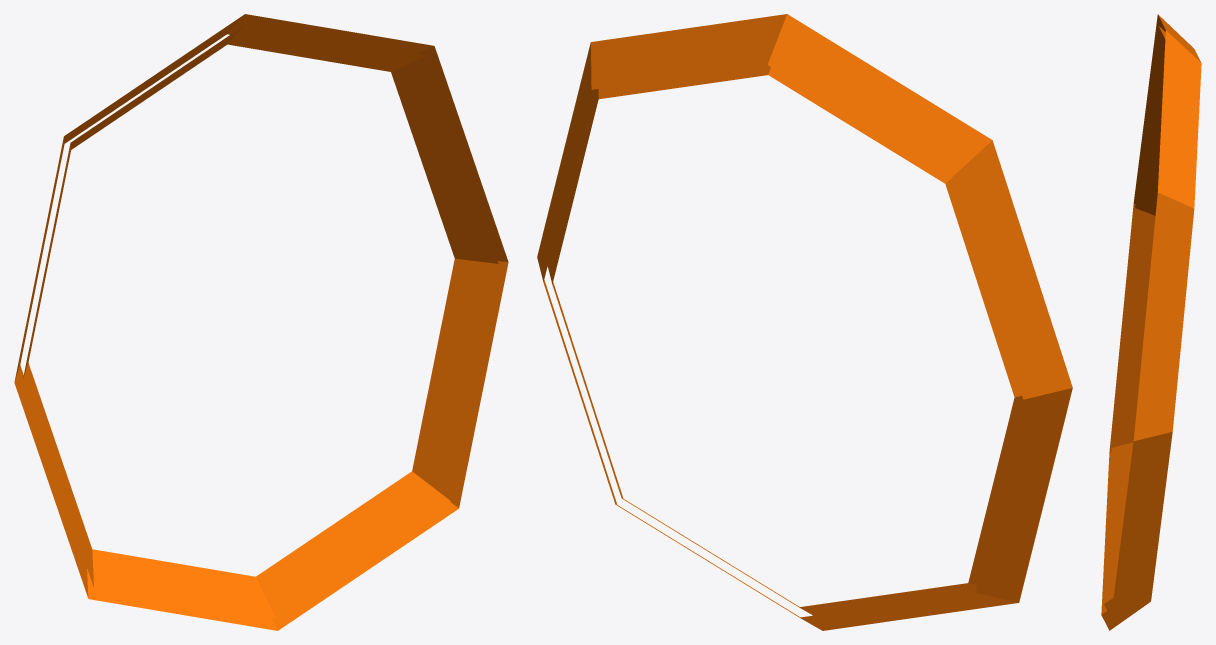
File: Headband 07.FBX
The picture shows the model from 3 angles, left to right: view 1: azimuth 30°, elevation 25°; view 2: azimuth 150°, elevation 25°; view 3: azimuth 270°, elevation 25°; orthographic projection. The views are drawn at different scales.
Parts seen in each view (by area): view 1: Headband 07; view 2: Headband 07; view 3: Headband 07.
Boxes of the visible parts, x1=… form: Headband 07: x1=14, y1=14, x2=508, y2=630; Headband 07: x1=537, y1=14, x2=1072, y2=630; Headband 07: x1=1101, y1=14, x2=1201, y2=630.
Bounding box in the file's own units: 38.45 × 6.85 × 44.09.
